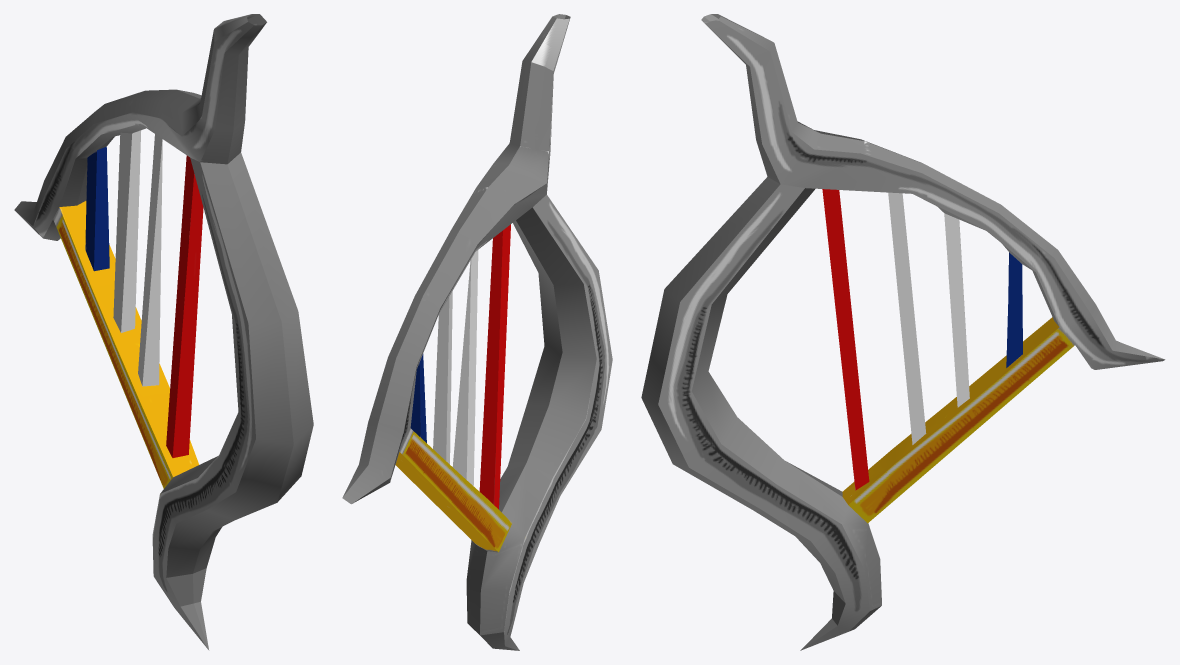
Rendered from Arpa1_000007.obj.
3 views of the same model, side by side, from view 1: azimuth 30°, elevation 25°; view 2: azimuth 150°, elevation 25°; view 3: azimuth 270°, elevation 25° (orthographic). The views are drawn at different scales.
Parts seen in each view (by area): view 1: a1_pCube7.001; view 2: a1_pCube7.001; view 3: a1_pCube7.001.
Boxes of the visible parts, bbox=[...] form: a1_pCube7.001: bbox=[14, 14, 313, 650]; a1_pCube7.001: bbox=[342, 14, 612, 650]; a1_pCube7.001: bbox=[641, 14, 1165, 650].
Size of the model in its own units: 1.04 by 10.13 by 7.58.
